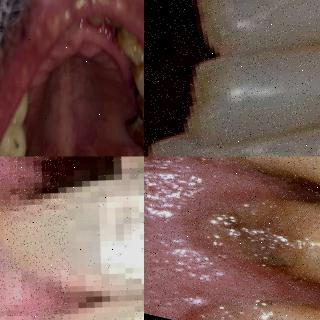Gum Swelling: (144, 156, 239, 224)
calculus: (199, 202, 300, 276), (284, 159, 320, 231), (276, 265, 320, 320), (125, 110, 144, 156), (129, 54, 144, 89), (108, 13, 124, 42), (130, 91, 144, 119)
maligned: (144, 115, 320, 156)
stains: (125, 115, 144, 155)
